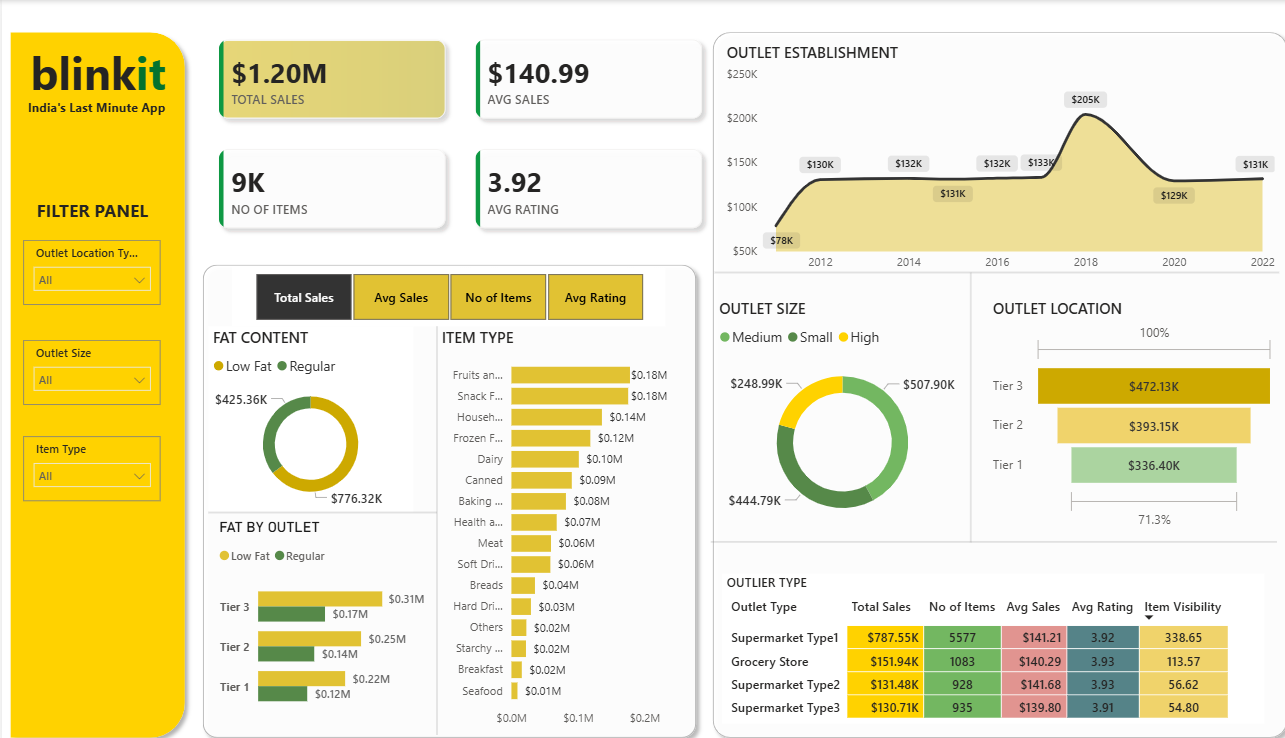

The page's visual inventory and layout, read from the dashboard file:
{"tool":"powerbi","page":{"name":"Page 1","canvas":[1400,800],"ordinal":0},"visuals":[{"type":"shape","box":[0,25.5,205.1,774.8],"z":0},{"type":"textbox","box":[12.1,40.2,182.3,77.8],"z":1000},{"type":"textbox","box":[253.3,698.4,205.1,77.8],"z":2000},{"type":"textbox","box":[22.8,100.5,160.9,33.5],"z":3000},{"type":"cardVisual","fields":{"Data":["BlinkIT Grocery Data.Total Sales","BlinkIT Grocery Data.Avg Sales","BlinkIT Grocery Data.No of Items","BlinkIT Grocery Data.Avg Rating"]},"box":[203.8,13.4,577.8,261.4],"z":4000},{"type":"shape","box":[206.4,274.8,546.9,525.5],"z":5000},{"type":"slicer","fields":{"Values":["Measures 2.Measures"]},"box":[246.7,286.9,465.1,63],"z":6000},{"type":"donutChart","title":"FAT CONTENT","fields":{"Y":["BlinkIT Grocery Data.Total Sales"],"Category":["BlinkIT Grocery Data.Item Fat Content"]},"box":[221.2,349.9,219.8,199.7],"z":7000},{"type":"clusteredBarChart","title":"FAT BY OUTLET","fields":{"Y":["BlinkIT Grocery Data.Total Sales"],"Category":["BlinkIT Grocery Data.Outlet Location Type"],"Series":["BlinkIT Grocery Data.Item Fat Content"]},"box":[227.9,556.3,230.6,219.8],"z":8000},{"type":"shape","box":[221.2,540.2,245.3,18.8],"z":9000},{"type":"shape","box":[434.3,349.9,64.3,438.3],"z":10000},{"type":"barChart","title":"ITEM TYPE","fields":{"Y":["BlinkIT Grocery Data.Total Sales"],"Category":["BlinkIT Grocery Data.Item Type"]},"box":[466.5,349.9,269.4,438.3],"z":11000},{"type":"shape","box":[753.4,25.5,634,774.8],"z":12000},{"type":"lineChart","title":"OUTLET ESTABLISHMENT","fields":{"Y":["BlinkIT Grocery Data.Total Sales"],"Category":["BlinkIT Grocery Data.Outlet Establishment Year"]},"box":[772.1,44.2,597.9,254.7],"z":13000},{"type":"shape","box":[764.1,265.4,605.9,53.6],"z":14000},{"type":"donutChart","title":"OUTLET SIZE","fields":{"Y":["BlinkIT Grocery Data.Total Sales"],"Category":["BlinkIT Grocery Data.Outlet Size"]},"box":[764.1,319,274.8,257.4],"z":15000},{"type":"shape","box":[1006.7,292.2,64.3,289.6],"z":16000},{"type":"funnel","title":"OUTLET LOCATION","fields":{"Y":["BlinkIT Grocery Data.Total Sales"],"Category":["BlinkIT Grocery Data.Outlet Location Type"]},"box":[1057.7,319,312.3,253.3],"z":17000},{"type":"shape","box":[760.1,576.4,607.2,9.4],"z":18000},{"type":"pivotTable","title":"OUTLIER TYPE","fields":{"Rows":["BlinkIT Grocery Data.Outlet Type"],"Values":["BlinkIT Grocery Data.Total Sales","BlinkIT Grocery Data.No of Items","BlinkIT Grocery Data.Avg Sales","BlinkIT Grocery Data.Avg Rating","Sum(BlinkIT Grocery Data.Item Visibility)"]},"box":[772.1,615.3,581.8,160.9],"z":19000},{"type":"slicer","fields":{"Values":["BlinkIT Grocery Data.Outlet Location Type"]},"box":[22.8,257.4,147.4,69.7],"z":20000},{"type":"slicer","fields":{"Values":["BlinkIT Grocery Data.Outlet Size"]},"box":[22.8,364.6,147.4,69.7],"z":21000},{"type":"slicer","fields":{"Values":["BlinkIT Grocery Data.Item Type"]},"box":[22.8,467.8,147.4,69.7],"z":22000},{"type":"textbox","box":[32.2,207.8,138.1,37.5],"z":23000}]}

Visuals, with their boxes in screenshot pixels (x1, y1, x2, y2), scaled from the page's 1400x800 canvas onto the 1285x738 screenshot:
shape: <bbox>0, 24, 188, 737</bbox>
textbox: <bbox>11, 37, 178, 109</bbox>
textbox: <bbox>232, 644, 421, 716</bbox>
textbox: <bbox>21, 93, 169, 124</bbox>
cardVisual - BlinkIT Grocery Data.Total Sales x BlinkIT Grocery Data.Avg Sales: <bbox>187, 12, 717, 254</bbox>
shape: <bbox>189, 254, 691, 737</bbox>
slicer - Measures 2.Measures: <bbox>226, 265, 653, 323</bbox>
"FAT CONTENT" donutChart: <bbox>203, 323, 405, 507</bbox>
"FAT BY OUTLET" clusteredBarChart: <bbox>209, 513, 421, 716</bbox>
shape: <bbox>203, 498, 428, 516</bbox>
shape: <bbox>399, 323, 458, 727</bbox>
"ITEM TYPE" barChart: <bbox>428, 323, 675, 727</bbox>
shape: <bbox>692, 24, 1273, 737</bbox>
"OUTLET ESTABLISHMENT" lineChart: <bbox>709, 41, 1257, 276</bbox>
shape: <bbox>701, 245, 1257, 294</bbox>
"OUTLET SIZE" donutChart: <bbox>701, 294, 954, 532</bbox>
shape: <bbox>924, 270, 983, 537</bbox>
"OUTLET LOCATION" funnel: <bbox>971, 294, 1257, 528</bbox>
shape: <bbox>698, 532, 1255, 540</bbox>
"OUTLIER TYPE" pivotTable: <bbox>709, 568, 1243, 716</bbox>
slicer - BlinkIT Grocery Data.Outlet Location Type: <bbox>21, 237, 156, 302</bbox>
slicer - BlinkIT Grocery Data.Outlet Size: <bbox>21, 336, 156, 401</bbox>
slicer - BlinkIT Grocery Data.Item Type: <bbox>21, 432, 156, 496</bbox>
textbox: <bbox>30, 192, 156, 226</bbox>
